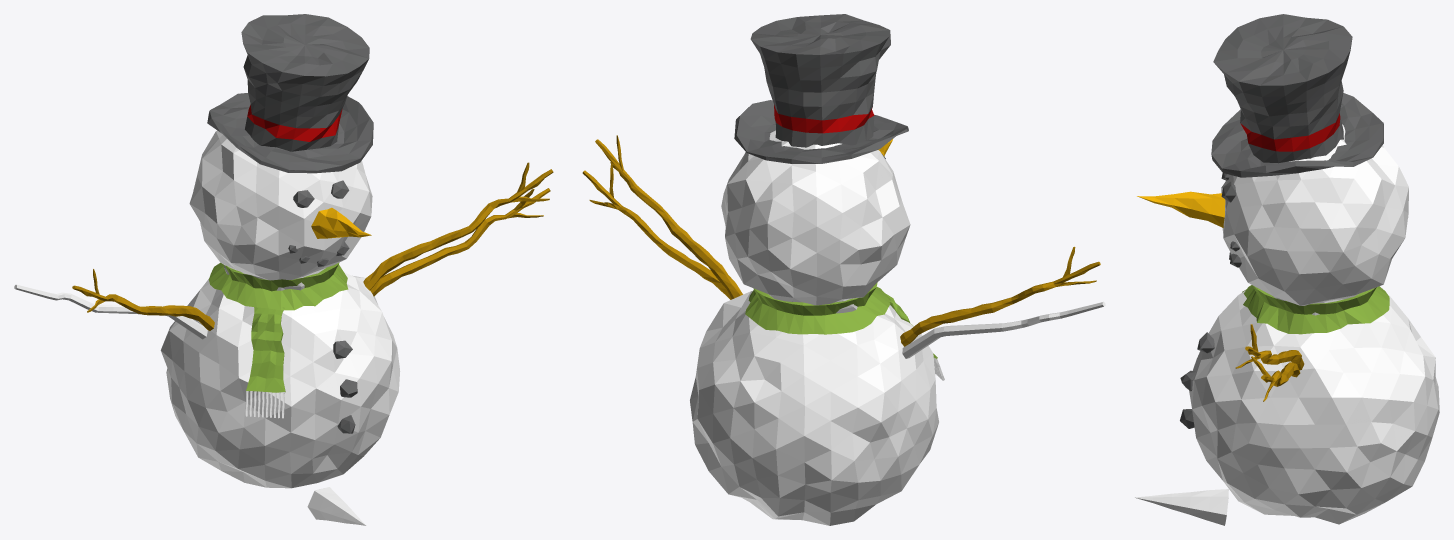
Rendered from snowman2.glb.
3 renders of one model, left to right at view 1: azimuth 30°, elevation 25°; view 2: azimuth 150°, elevation 25°; view 3: azimuth 270°, elevation 25°, orthographic. The views are drawn at different scales.
Size of the model in its own units: 260 by 221 by 126.
